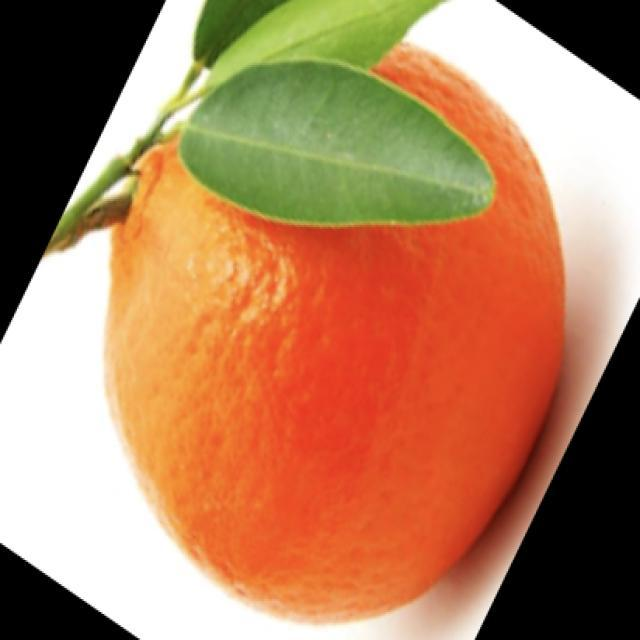Orange: (101, 40, 567, 624)
